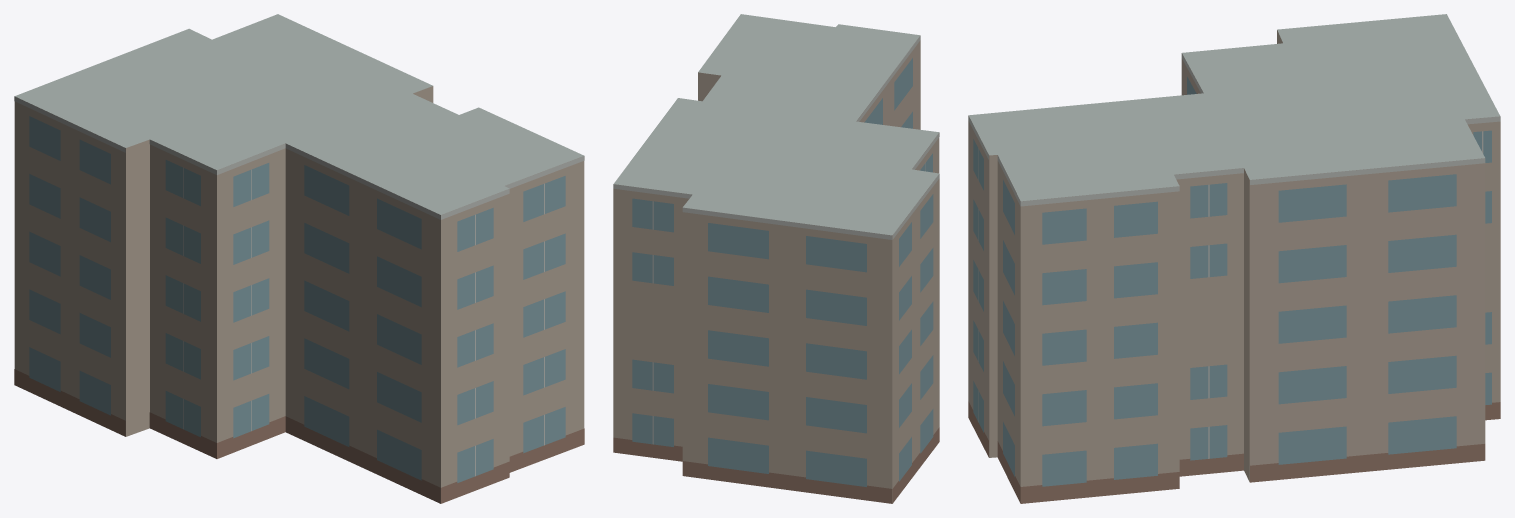
File: survey-upis-32648252.glb
3 views of the same model, side by side, from view 1: azimuth 30°, elevation 25°; view 2: azimuth 150°, elevation 25°; view 3: azimuth 270°, elevation 25° (orthographic). The views are drawn at different scales.
Parts seen in each view (by area): view 1: survey-upis-32648252.tmp; view 2: survey-upis-32648252.tmp; view 3: survey-upis-32648252.tmp.
Boxes of the visible parts, <box> form: survey-upis-32648252.tmp: <box>14,14,584,503</box>; survey-upis-32648252.tmp: <box>613,14,939,503</box>; survey-upis-32648252.tmp: <box>968,14,1500,503</box>.
Bounding box in the file's own units: 18.93 × 14.25 × 22.72.
